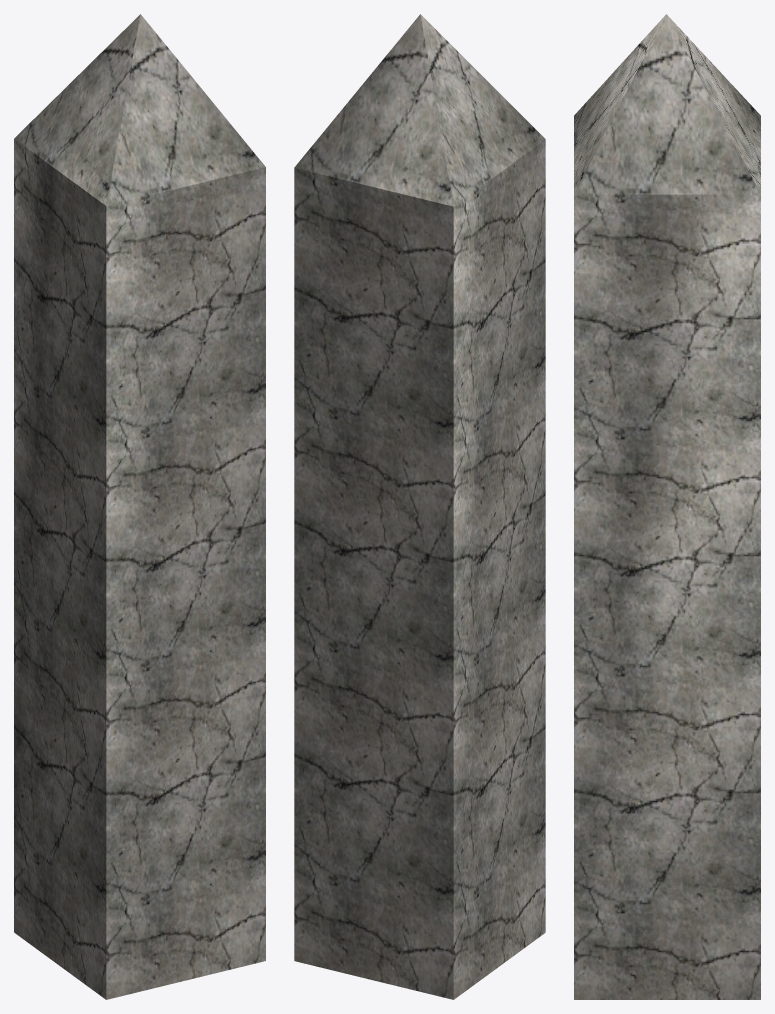
File: ARKENSTONE_OBLISK_STATE01.fbx
3 views of the same model, side by side, from view 1: azimuth 30°, elevation 25°; view 2: azimuth 150°, elevation 25°; view 3: azimuth 270°, elevation 25° (orthographic).
Parts seen in each view (by area): view 1: ARKENSTONE_OBLISK_STATE01; view 2: ARKENSTONE_OBLISK_STATE01; view 3: ARKENSTONE_OBLISK_STATE01.
Part boxes in pixels (box(x1,y1,x2,y2)): ARKENSTONE_OBLISK_STATE01: box(14, 14, 265, 999); ARKENSTONE_OBLISK_STATE01: box(294, 14, 545, 999); ARKENSTONE_OBLISK_STATE01: box(574, 14, 760, 999).
Size of the model in its own units: 12000 by 67020 by 12000.
Materials: 2 (2 with a texture image).
